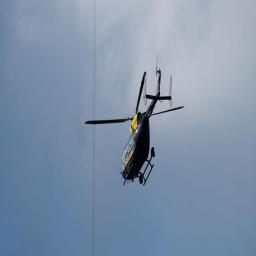helicopter: (88, 54, 187, 194)
